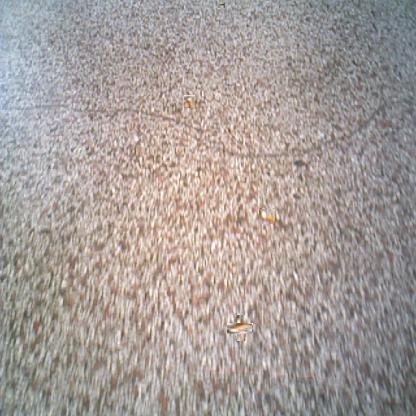dirty: (230, 319, 250, 338), (260, 208, 276, 224), (183, 96, 196, 108), (218, 2, 226, 10)
